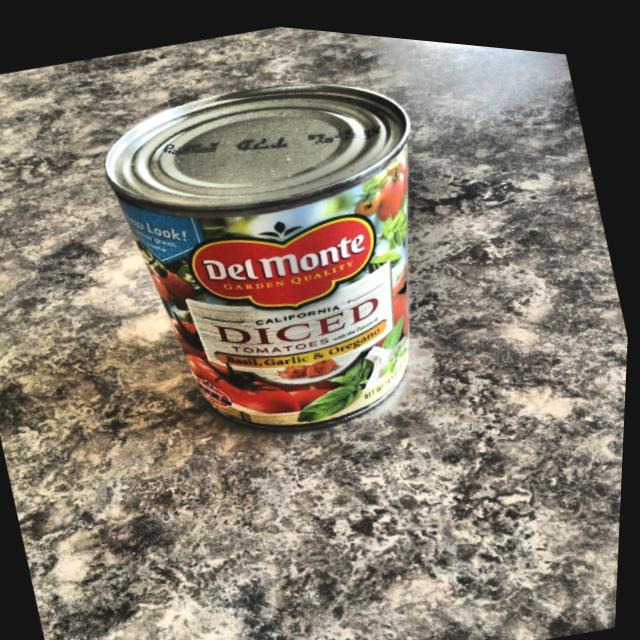Cans: (82, 25, 496, 483)
